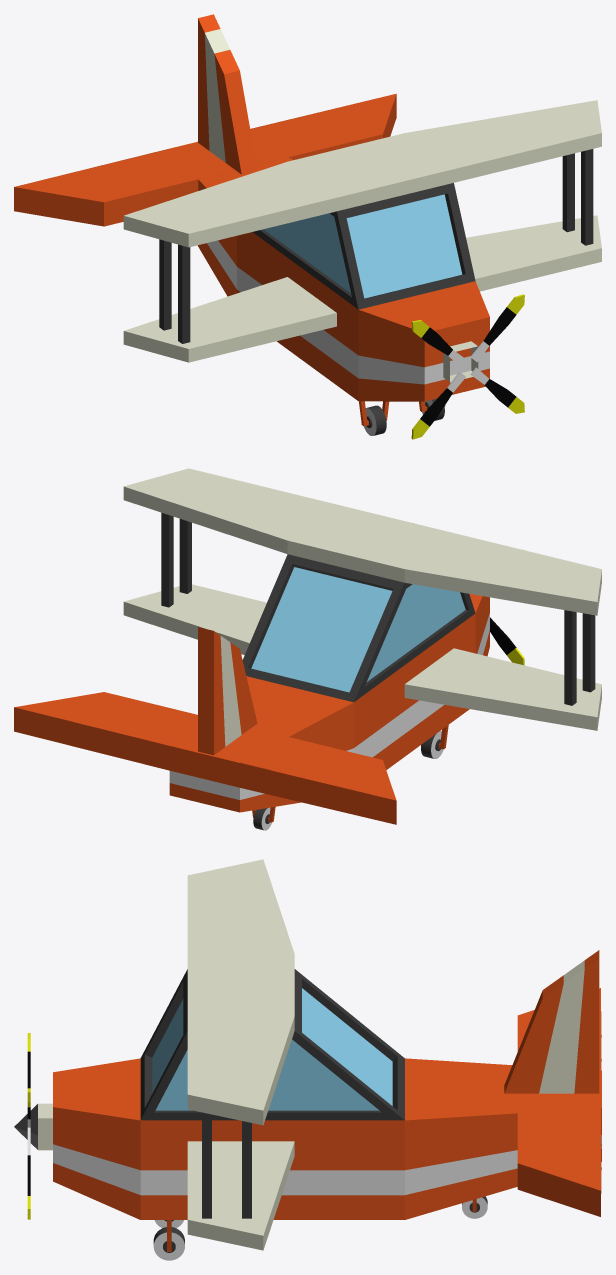
3 views of the same model, one above another, from view 1: azimuth 30°, elevation 25°; view 2: azimuth 150°, elevation 25°; view 3: azimuth 270°, elevation 25° (orthographic). The views are drawn at different scales.
Visible parts, largest first — view 1: Cube.018_0, Plane_2, Cylinder_1; view 2: Cube.018_0, Cylinder_1, Plane_2; view 3: Cube.018_0, Cylinder_1, Plane_2.
Boxes of the visible parts, box(x1,y1,x2,y2) form: Cube.018_0: box(14, 14, 601, 401); Plane_2: box(411, 294, 524, 439); Cylinder_1: box(359, 398, 445, 435); Cube.018_0: box(14, 468, 601, 824); Cylinder_1: box(252, 725, 448, 830); Plane_2: box(413, 523, 524, 665); Cube.018_0: box(14, 859, 601, 1250); Cylinder_1: box(153, 1196, 487, 1260); Plane_2: box(27, 1033, 30, 1219).
Bounding box in the file's own units: 3.4 × 1.82 × 3.36.
